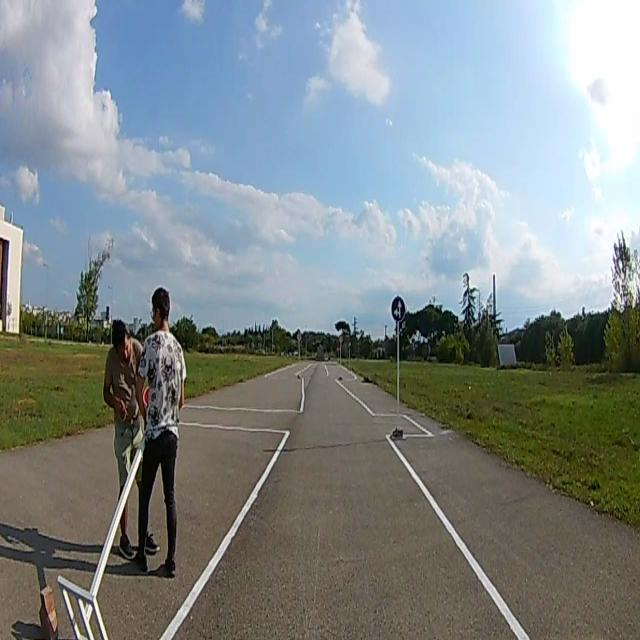ilerisol: (391, 295, 405, 325)
